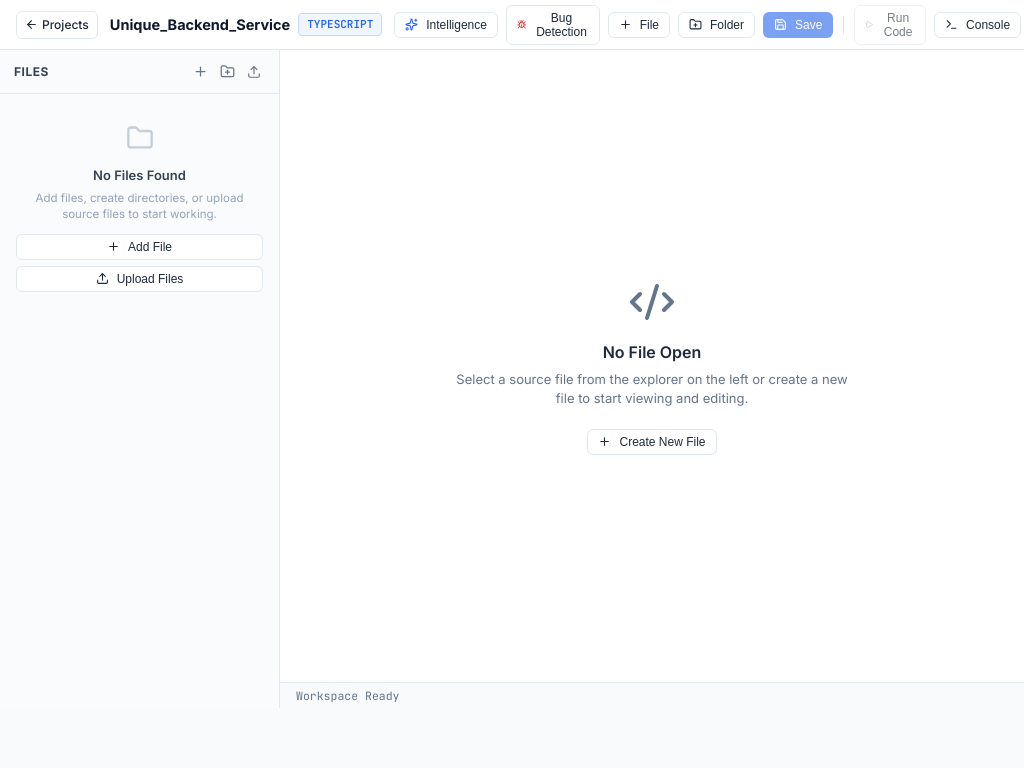
Project Duplicate Name Validation & UX Protection › 3. WorkspacePage Rename Duplicate Handling › displays error banner in WorkspacePage when rename is rejected by backend
// Click project name in header to open rename modal
Click the text titled "Click to rename project".
click(200, 24)  # box [110, 14, 290, 35]
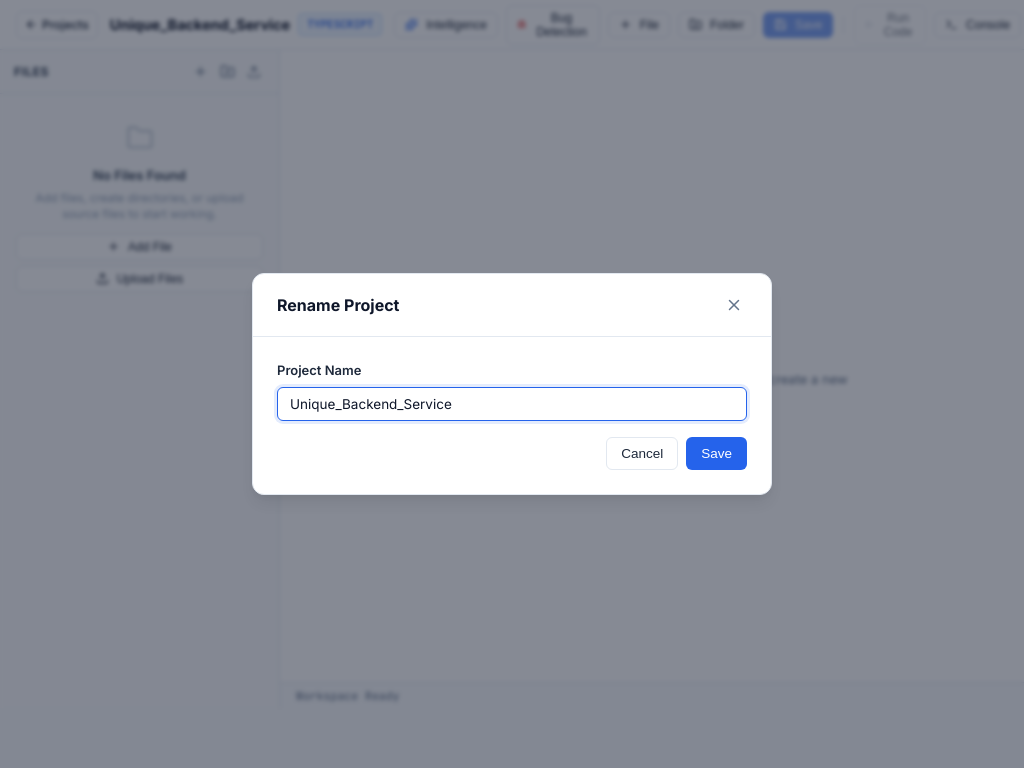
Replace the text in the field with test id "workspace-rename-project-input" with "PHASE4_BUG_DETECTION_TEST" at (512, 404), box [277, 387, 747, 421]
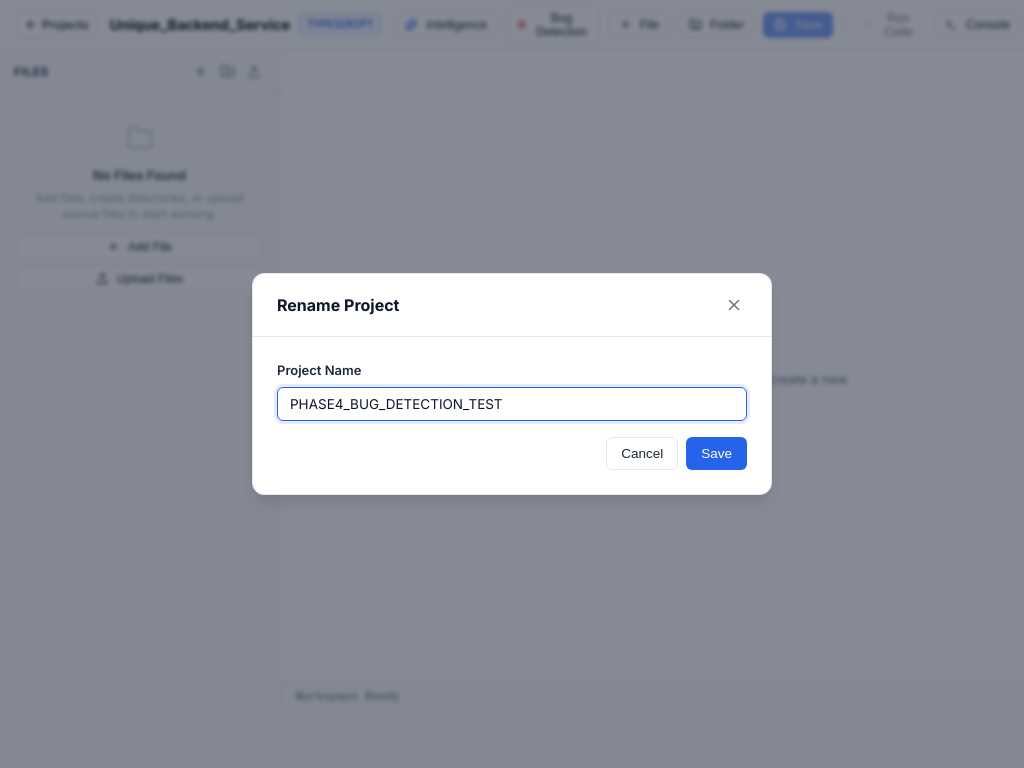
Click the button with test id "workspace-rename-project-submit-btn".
click(717, 453)  # box [686, 437, 747, 470]
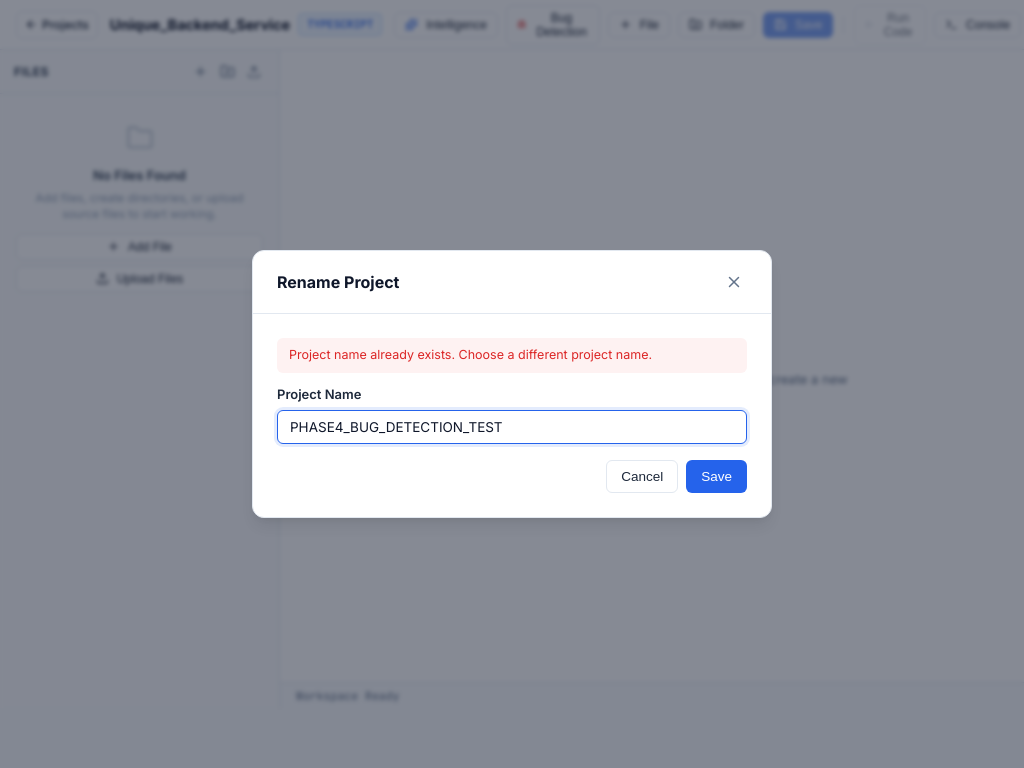
Check: the text with test id "workspace-rename-error-banner" reads "Project name already exists. Choose a different project name.", box [289, 347, 652, 362]
